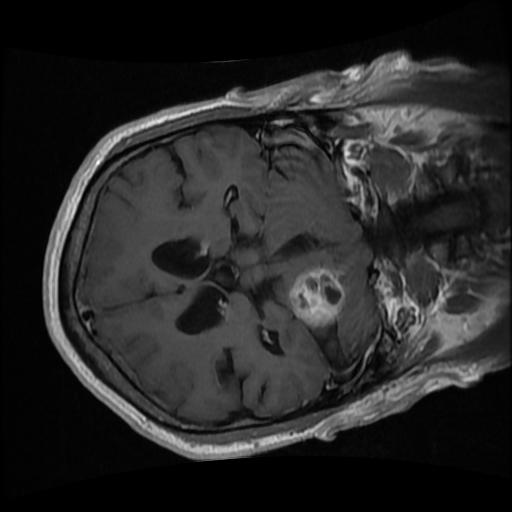meningioma: (287, 267, 343, 328)
